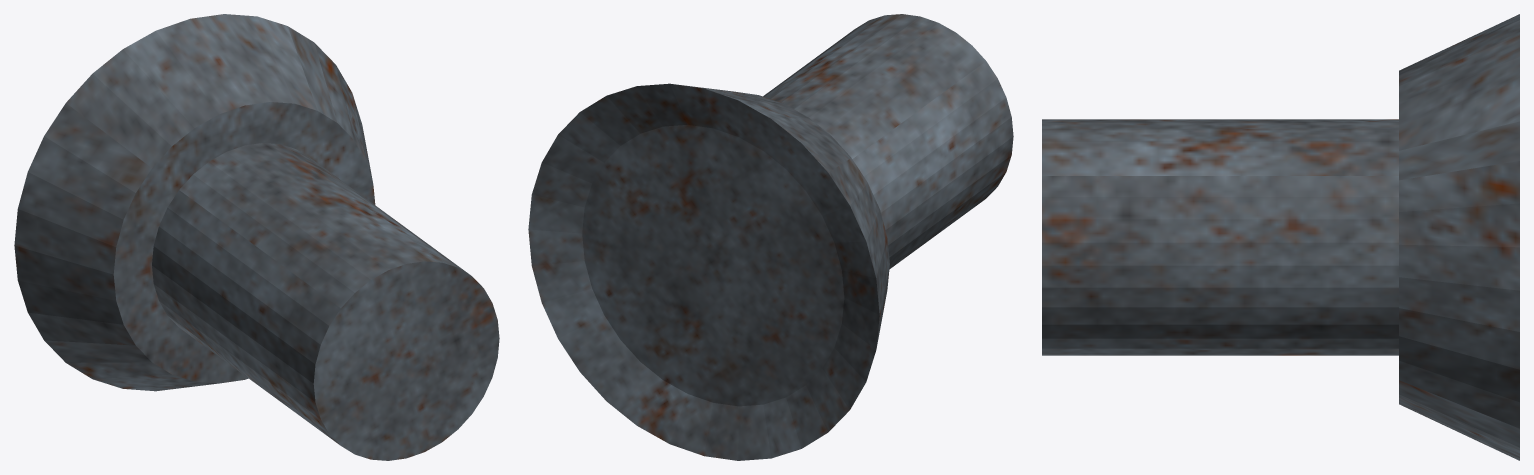
Rendered from Flashlight.fbx.
The picture shows the model from 3 angles, left to right: view 1: azimuth 30°, elevation 25°; view 2: azimuth 150°, elevation 25°; view 3: azimuth 270°, elevation 25°; orthographic projection. The views are drawn at different scales.
Visible parts, largest first — view 1: Cylinder.003; view 2: Cylinder.003; view 3: Cylinder.003.
Part boxes in pixels (box(x1,y1,x2,y2)): Cylinder.003: box(14, 14, 499, 460); Cylinder.003: box(528, 14, 1013, 460); Cylinder.003: box(1042, 14, 1519, 460).
Bounding box in the file's own units: 378 × 378 × 404.
